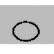no answer: (8, 16, 45, 45)
